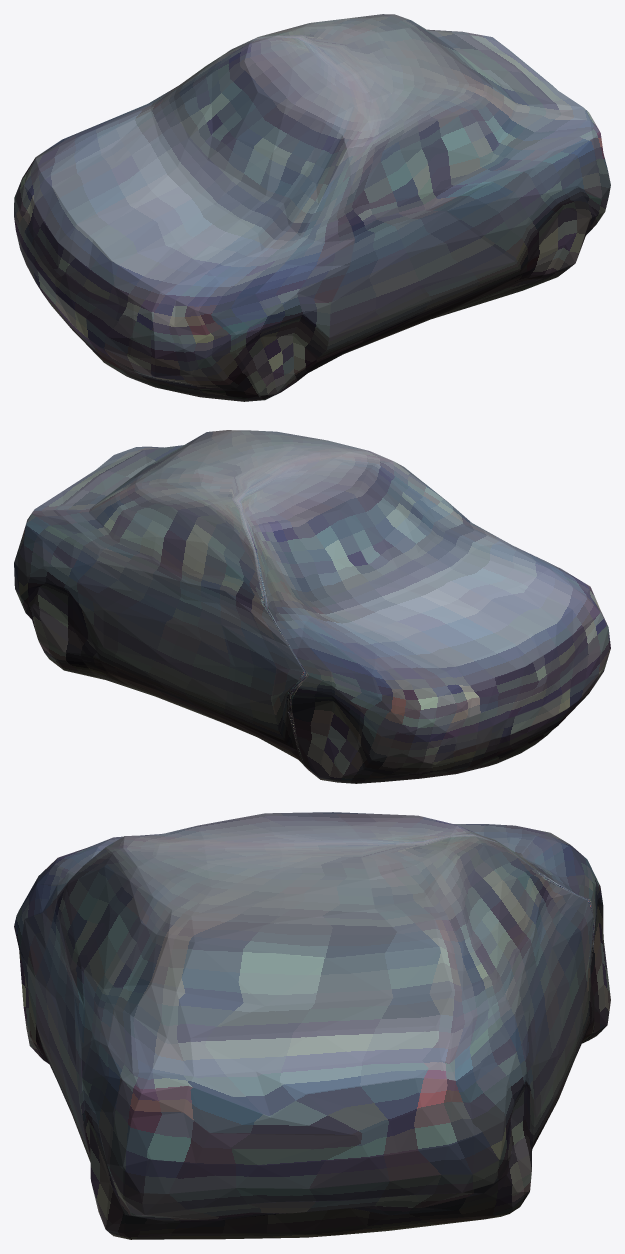
The model's file is video3_8.obj.
3 renders of one model, top to bottom at view 1: azimuth 30°, elevation 25°; view 2: azimuth 150°, elevation 25°; view 3: azimuth 270°, elevation 25°, orthographic. The views are drawn at different scales.
Bounding box in the file's own units: 1 × 0.4516 × 0.7164.
1 material, 1 textured.
